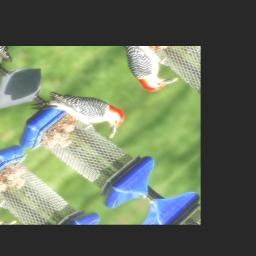Woodpecker: (23, 68, 135, 161)
